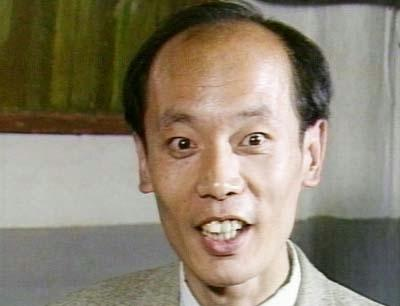no_mask: (123, 7, 332, 289)
